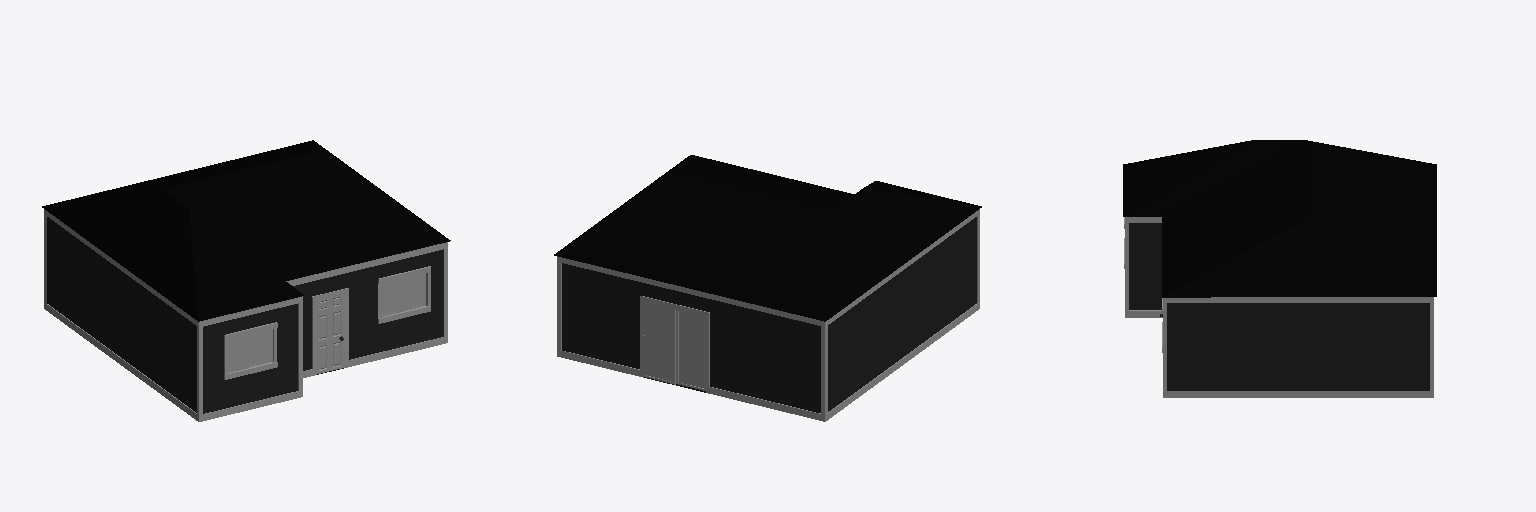
The model's file is House.obj.
3 renders of one model, left to right at view 1: azimuth 30°, elevation 25°; view 2: azimuth 150°, elevation 25°; view 3: azimuth 270°, elevation 25°, orthographic.
Parts seen in each view (by area): view 1: Vert, Cube, Vert.004, Vert.003; view 2: Vert, Vert.002; view 3: Vert.
Boxes of the visible parts, box(x1,y1,x2,y2) form: Vert: box(42, 140, 450, 421); Cube: box(316, 293, 344, 374); Vert.004: box(250, 329, 272, 366); Vert.003: box(404, 273, 425, 310); Vert: box(554, 155, 981, 421); Vert.002: box(644, 302, 675, 384); Vert: box(1123, 140, 1436, 397).
Size of the model in its own units: 16.55 by 8.9 by 16.55.